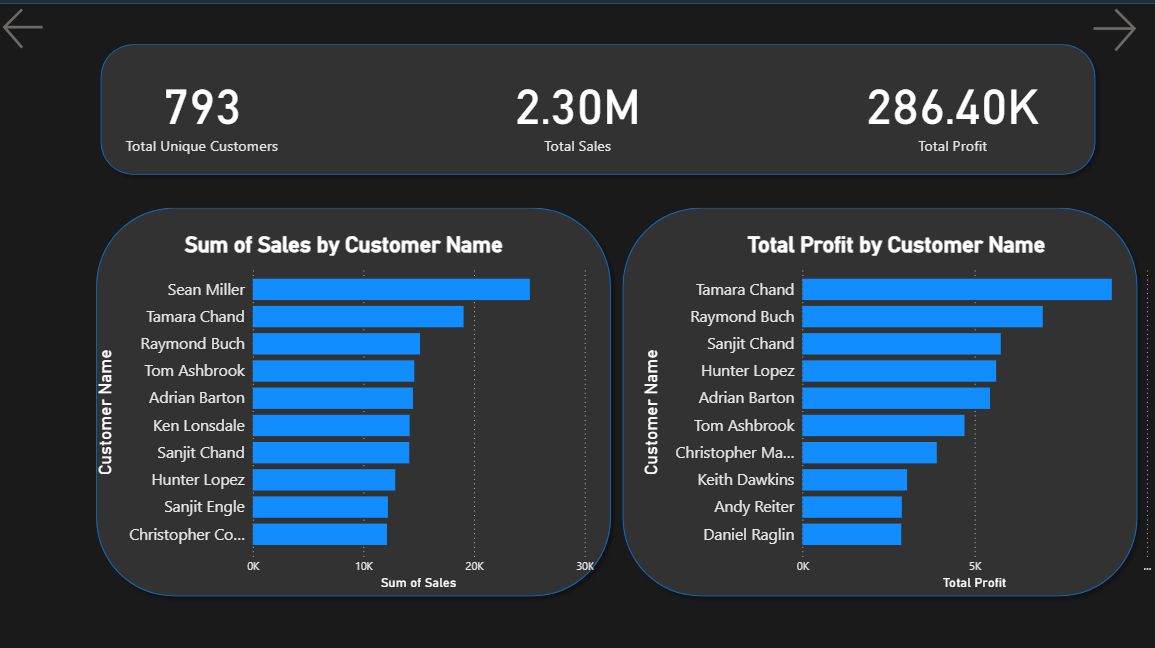

Layout of this report page (visuals, bound fields, positions):
{"tool":"powerbi","page":{"name":"Page 2","canvas":[1280,720],"ordinal":1},"visuals":[{"type":"card","fields":{"Values":["Raw_cleaned.DistinctCount"]},"box":[18.3,63.3,413.3,110],"z":0,"group":"g1"},{"type":"shape","box":[0,0,1280.5,720.6],"z":1000},{"type":"shape","box":[680.8,217,586.4,447.2],"z":1125},{"type":"shape","box":[99.4,217,586.4,447.2],"z":1250},{"type":"shape","box":[104.4,36.4,1116.5,162.3],"z":1500},{"type":"card","fields":{"Values":["Raw_cleaned.Total Sales"]},"box":[431.6,63.3,415,110],"z":2000,"group":"g1"},{"type":"barChart","fields":{"Category":["customer_dim.Customer Name"],"Y":["Sum(Raw_cleaned.Sales)"]},"box":[101,251.8,561.5,400.9],"z":2000},{"type":"card","fields":{"Values":["Raw_cleaned.Total Profit"]},"box":[846.6,63.3,415,110],"z":3000,"group":"g1"},{"type":"barChart","fields":{"Category":["customer_dim.Customer Name"],"Y":["Raw_cleaned.Total Profit"]},"box":[704,251.8,576.5,400.9],"z":3000},{"type":"group","id":"g1","title":"Group 1","box":[18.3,63.3,1243.3,110],"z":4000},{"type":"actionButton","box":[1202.1,0,77.9,59.6],"z":5000},{"type":"actionButton","box":[0,0,104.4,56.3],"z":6000}]}

Visuals, with their boxes in screenshot pixels (x1, y1, x2, y2), scaled from the page's 1280x720 canvas onto the 1155x648 screenshot:
card - Raw_cleaned.DistinctCount: 17 57 389 156
shape: 0 0 1154 647
shape: 614 195 1143 598
shape: 90 195 619 598
shape: 94 33 1102 179
card - Raw_cleaned.Total Sales: 389 57 764 156
barChart - customer_dim.Customer Name x Sum(Raw_cleaned.Sales): 91 227 598 587
card - Raw_cleaned.Total Profit: 764 57 1138 156
barChart - customer_dim.Customer Name x Raw_cleaned.Total Profit: 635 227 1154 587
"Group 1" group: 17 57 1138 156
actionButton: 1085 0 1154 54
actionButton: 0 0 94 51
